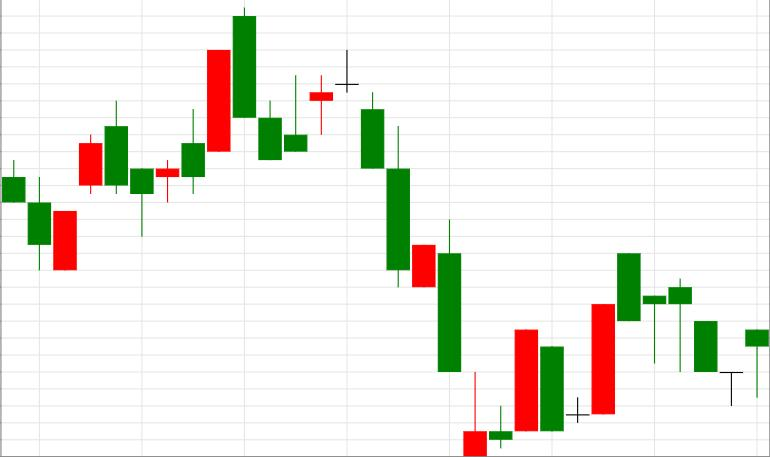inverse_hammer_rise: (334, 50, 488, 457)
